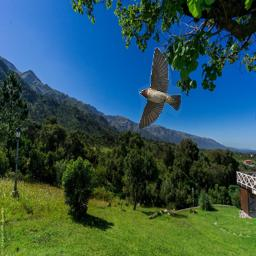Swallow: (138, 47, 182, 130)
